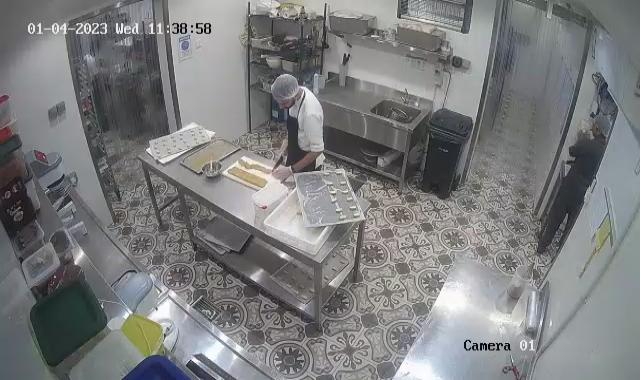hairnet: (269, 73, 301, 106), (588, 114, 610, 139)
